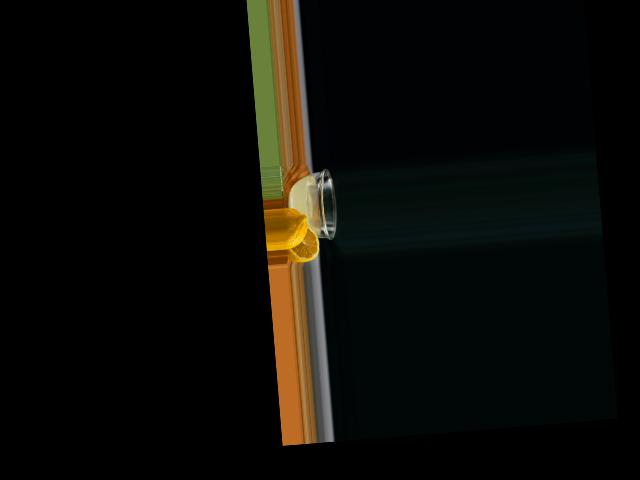lemon: (282, 205, 320, 261)
